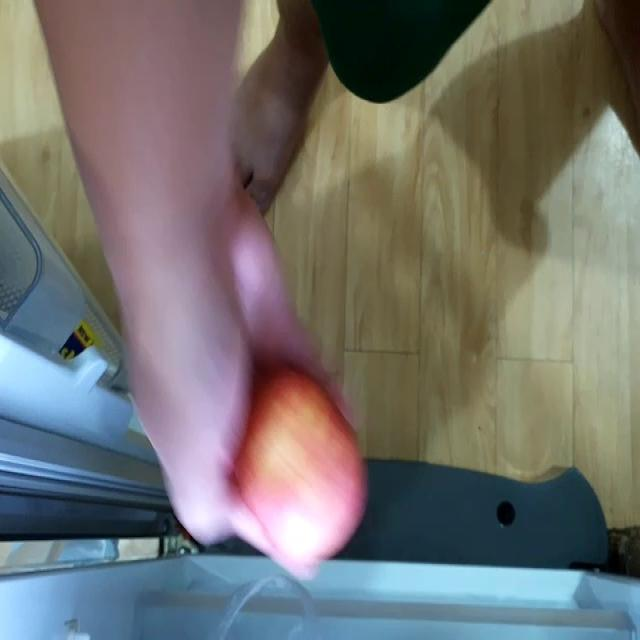apple: (232, 369, 366, 569)
